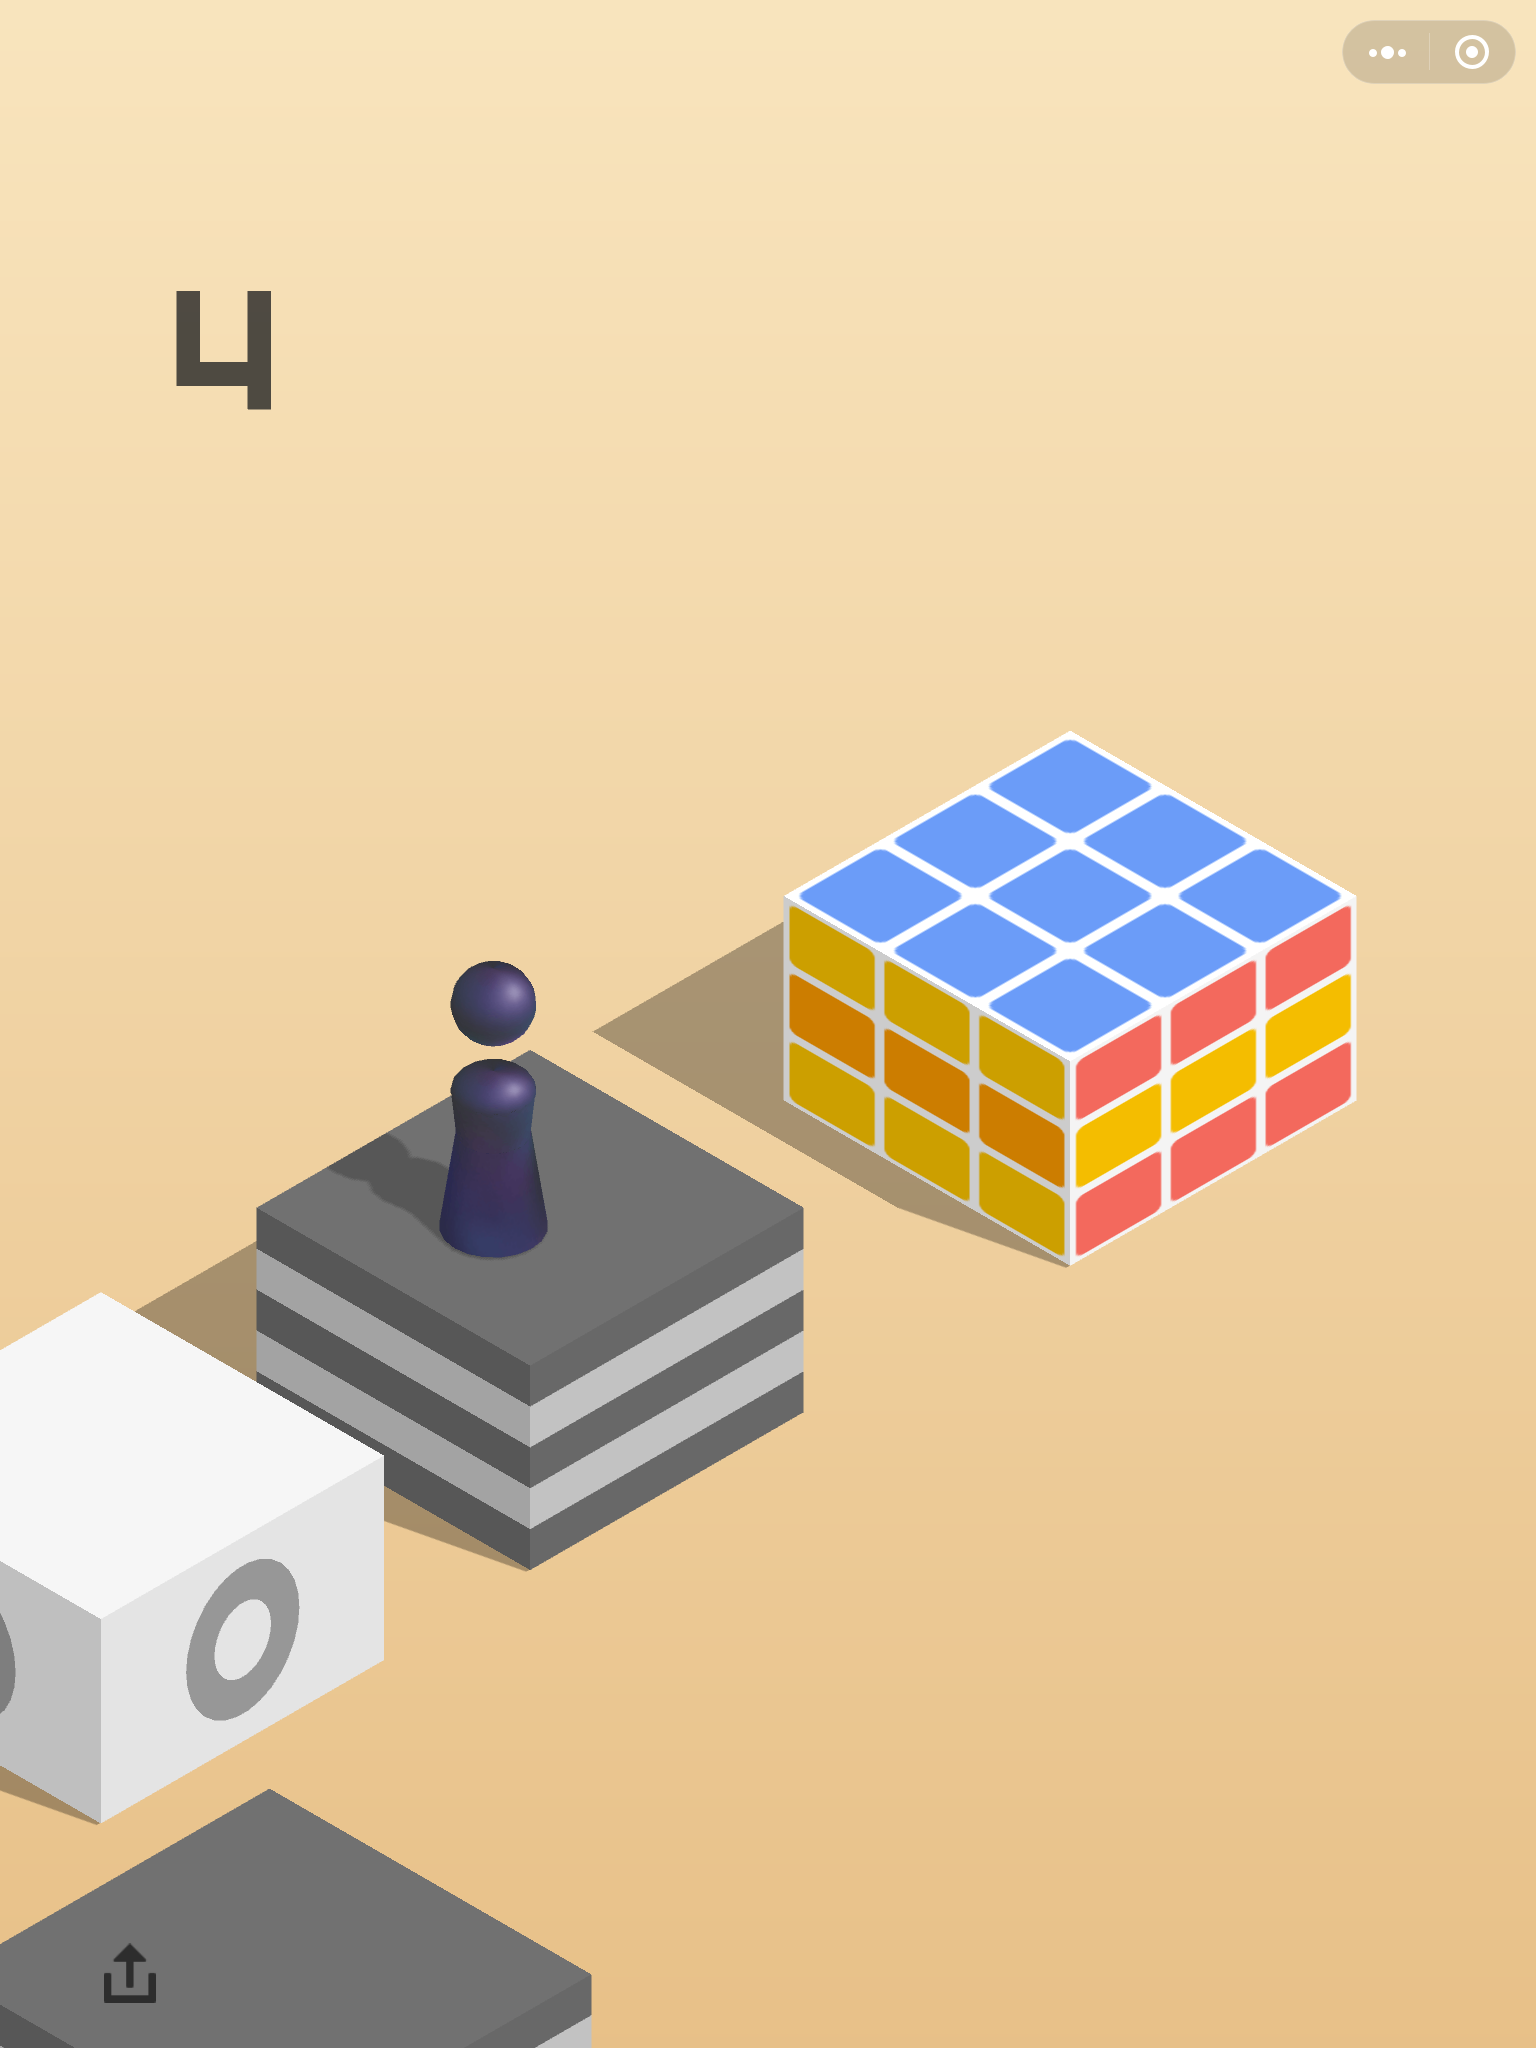f: (778, 726, 1365, 1277), (250, 1050, 815, 1579), (2, 1280, 394, 1830), (2, 1784, 595, 2045)
r: (432, 956, 555, 1266)
